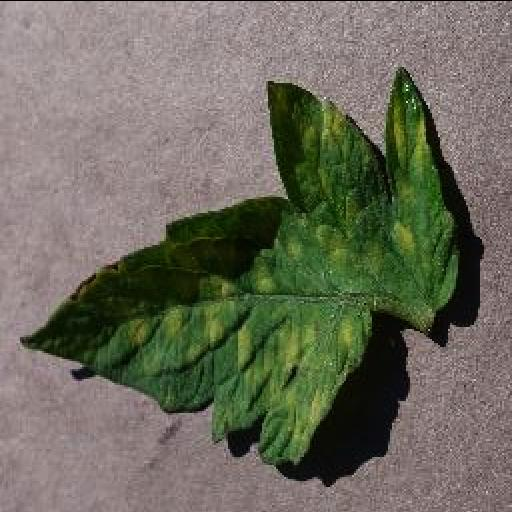disease_tomato: (17, 64, 459, 460)
